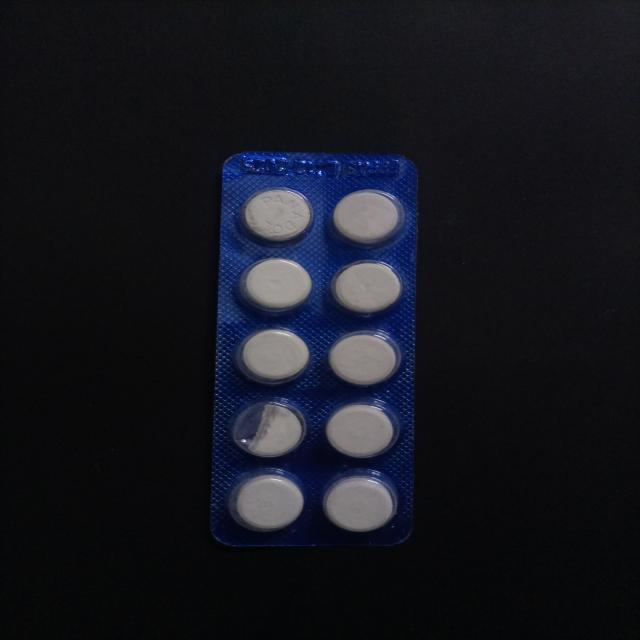defect: (224, 394, 314, 462)
